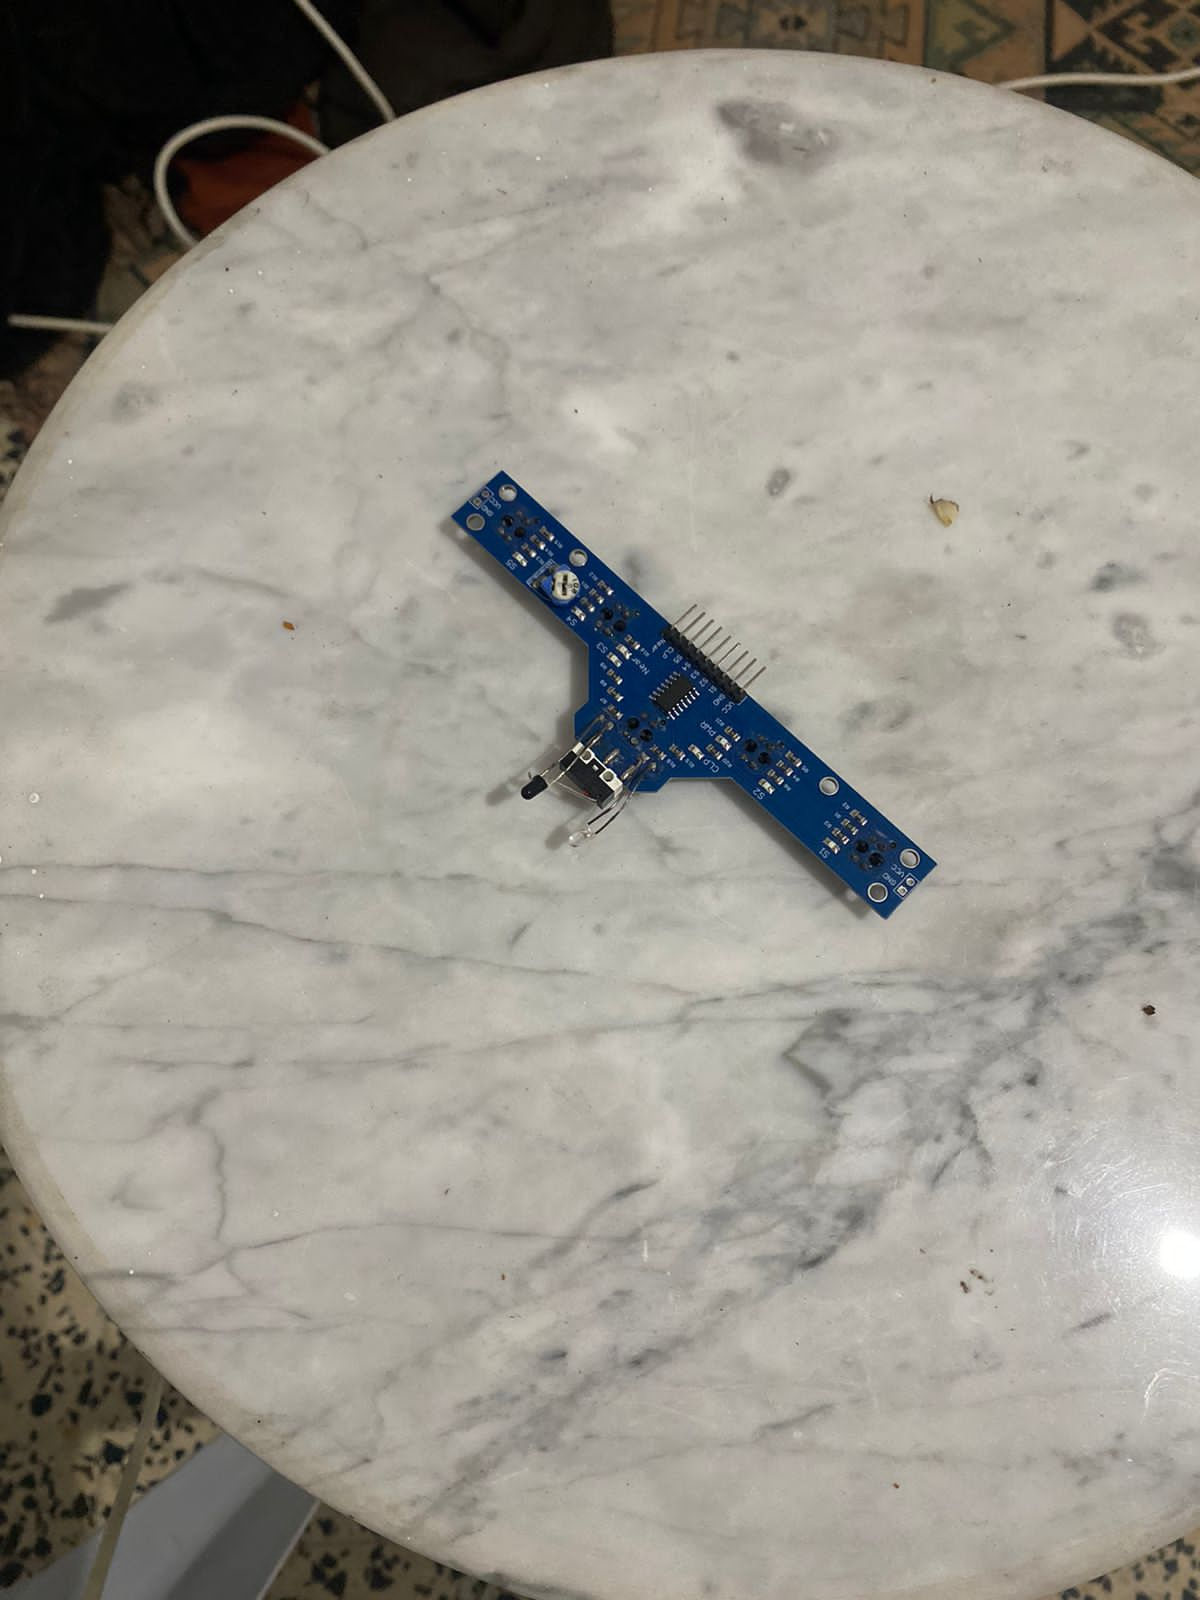Capteur-IR-5 Voies: (445, 467, 942, 926)
